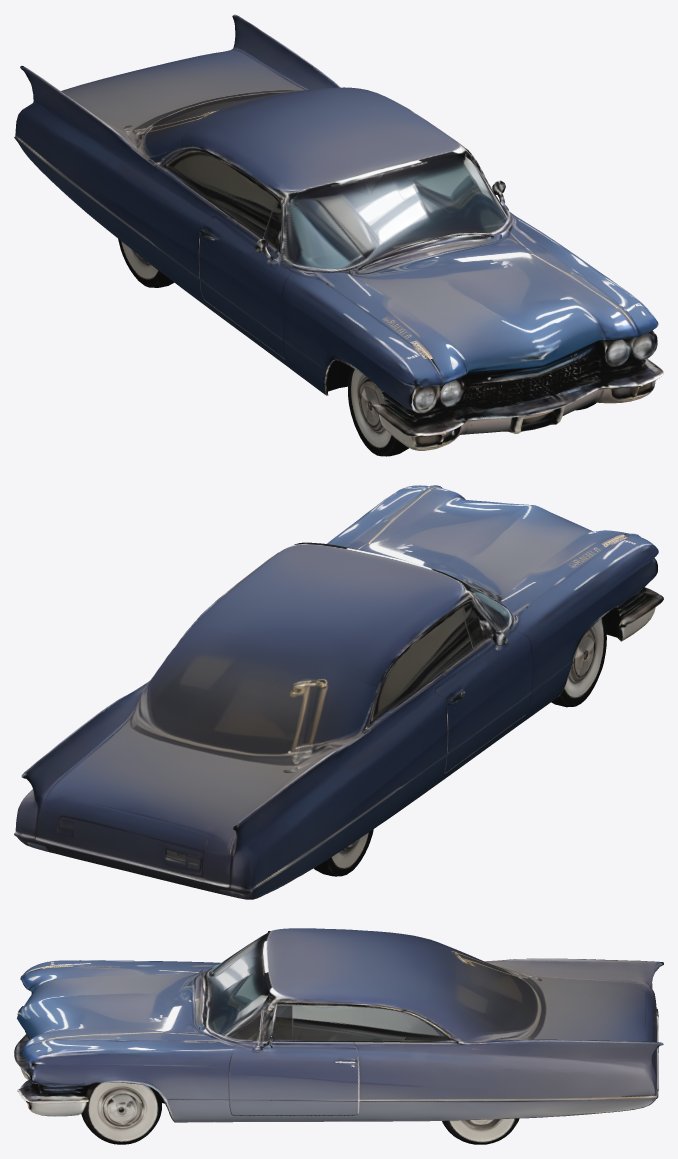
Rendered from cadillac_convertible_1960.glb.
3 renders of one model, top to bottom at view 1: azimuth 30°, elevation 25°; view 2: azimuth 150°, elevation 25°; view 3: azimuth 270°, elevation 25°, orthographic. The views are drawn at different scales.
Parts seen in each view (by area): view 1: cadillac_convertible_1960; view 2: cadillac_convertible_1960; view 3: cadillac_convertible_1960.
Boxes of the visible parts, bbox=[...] form: cadillac_convertible_1960: bbox=[14, 14, 663, 456]; cadillac_convertible_1960: bbox=[14, 485, 663, 899]; cadillac_convertible_1960: bbox=[14, 928, 663, 1144].
Size of the model in its own units: 2.03 by 1.47 by 5.68.
Materials: 1 (1 with a texture image).
